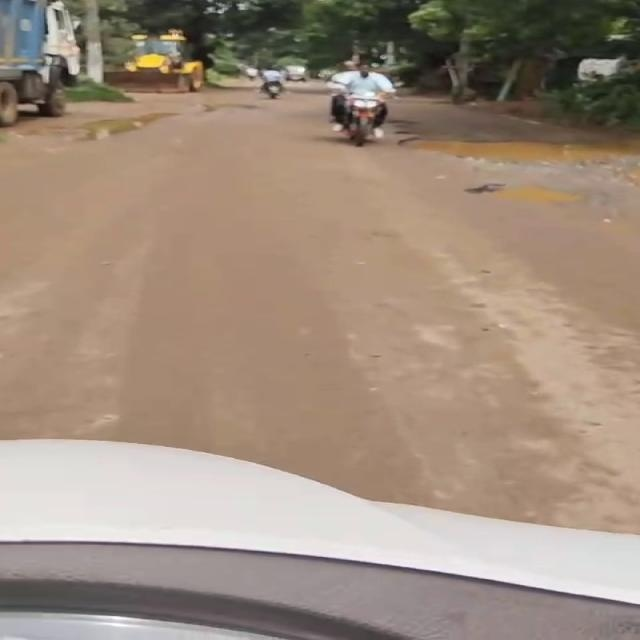pothole: (395, 135, 636, 163), (42, 108, 180, 147), (473, 178, 579, 208), (193, 104, 253, 113)
